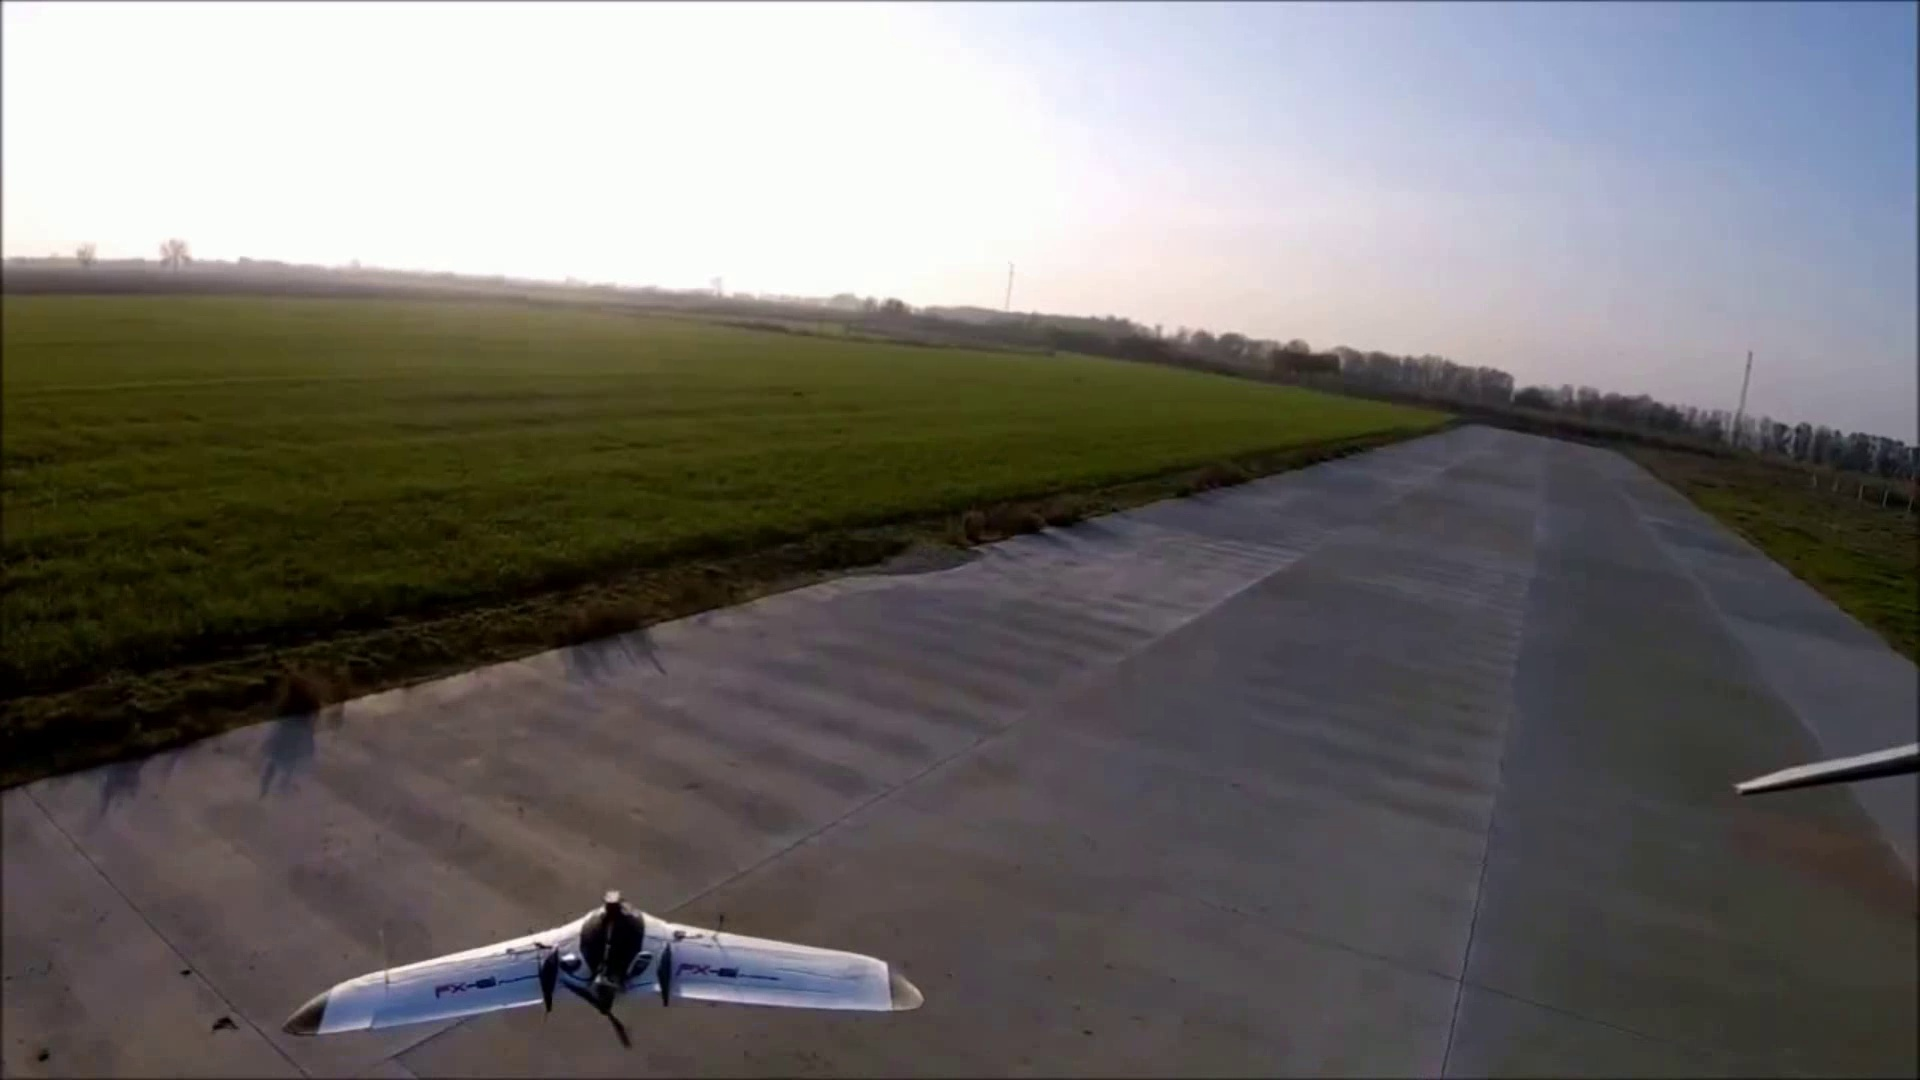airplane: (287, 893, 920, 1059)
